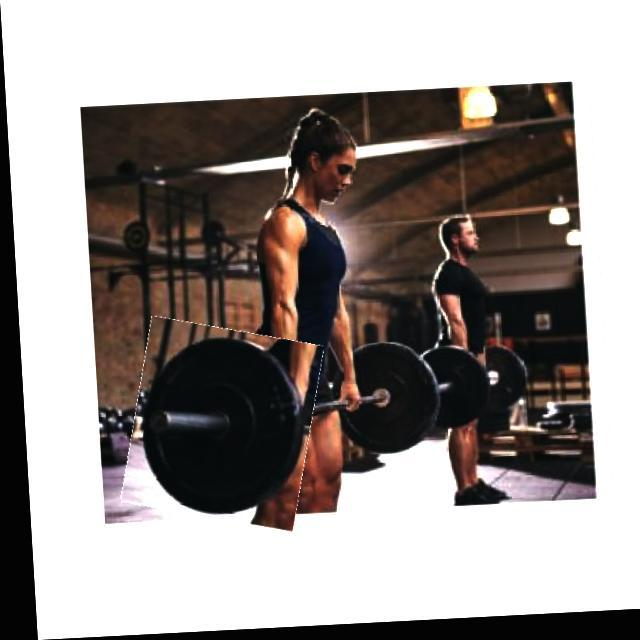barbell: (117, 321, 319, 533)
